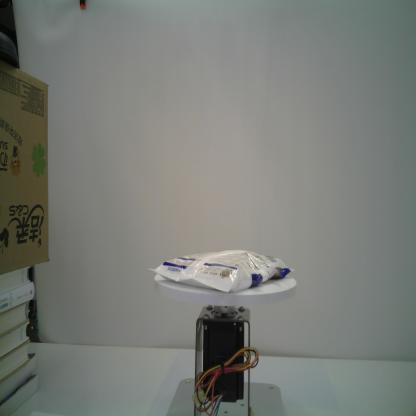Seasoner: (147, 248, 296, 294)
